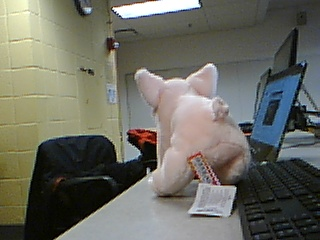piggy: (132, 61, 254, 200)
